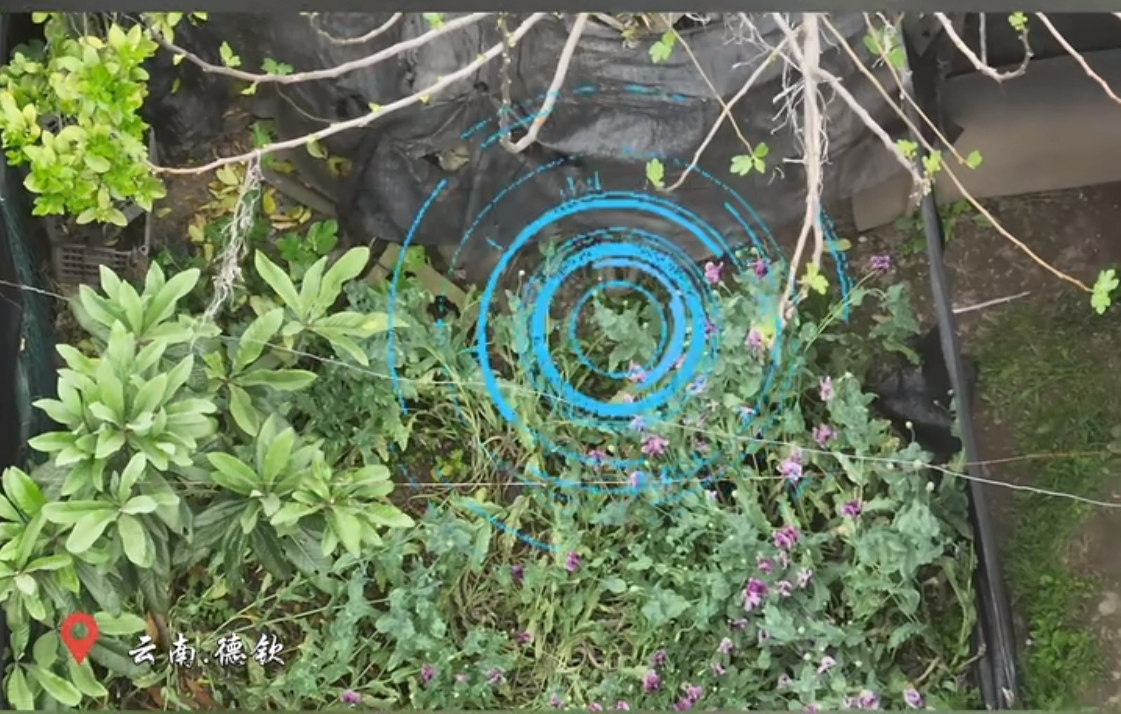Poppy: (389, 238, 945, 714)
